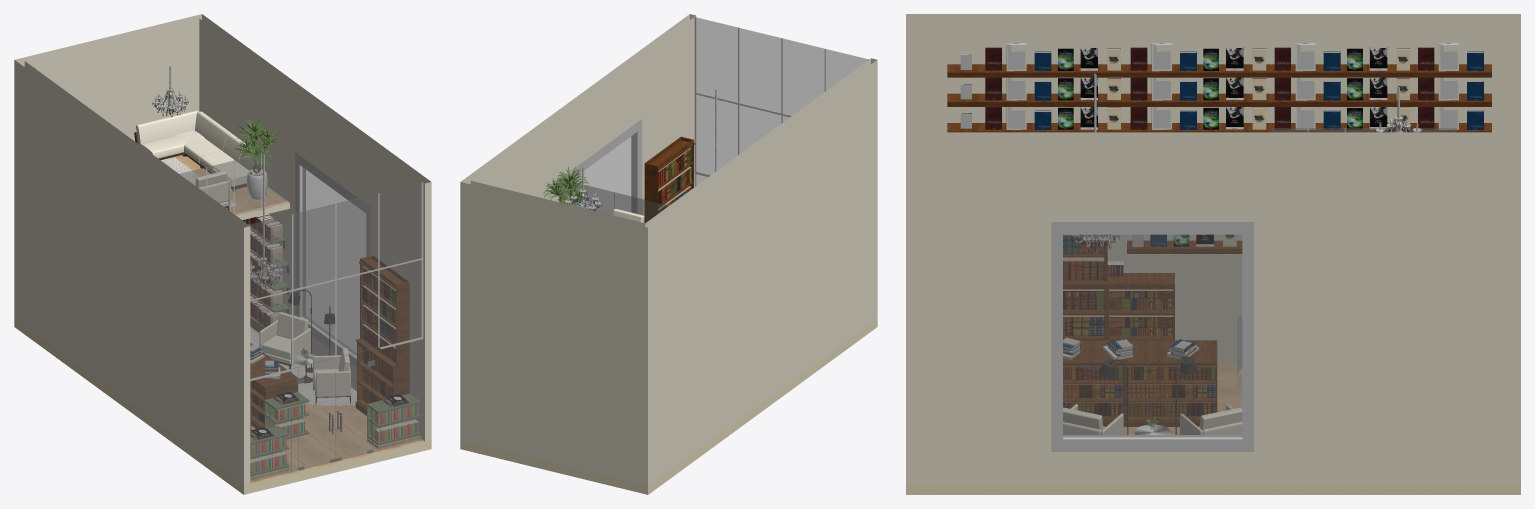
The model's file is livraria.glb.
The picture shows the model from 3 angles, left to right: view 1: azimuth 30°, elevation 25°; view 2: azimuth 150°, elevation 25°; view 3: azimuth 270°, elevation 25°; orthographic projection. The views are drawn at different scales.
Parts seen in each view (by area): view 1: empty_3, empty_8, empty_7261, empty_243, empty_4, empty_2, empty_19, empty_9, empty_16, empty_12, empty_206, empty_541 (+4 smaller); view 2: empty_3, empty_8, empty_9, empty_2, empty_19, empty_16, empty_541, empty_1944; view 3: empty_3, empty_8, empty_5, empty_2, empty_16, empty_9, empty_19, empty_4848, empty_4842, empty_4851, empty_4846, empty_4854 (+7 smaller).
Part boxes in pixels (<box>): empty_3: <box>14,14,431,485</box>; empty_8: <box>180,147,423,481</box>; empty_7261: <box>291,347,380,471</box>; empty_243: <box>135,110,350,397</box>; empty_4: <box>175,155,424,483</box>; empty_2: <box>206,152,423,380</box>; empty_19: <box>250,255,409,430</box>; empty_9: <box>14,318,431,494</box>; empty_16: <box>250,267,395,423</box>; empty_12: <box>250,227,421,476</box>; empty_206: <box>161,157,356,406</box>; empty_541: <box>235,119,279,169</box>; empty_3: <box>460,14,877,485</box>; empty_8: <box>560,17,867,222</box>; empty_9: <box>460,318,877,494</box>; empty_2: <box>566,17,868,214</box>; empty_19: <box>644,136,694,222</box>; empty_16: <box>658,148,691,213</box>; empty_541: <box>543,166,590,206</box>; empty_1944: <box>565,89,717,210</box>; empty_3: <box>906,14,1520,482</box>; empty_8: <box>1063,128,1456,437</box>; empty_5: <box>947,64,1491,362</box>; empty_2: <box>960,43,1458,451</box>; empty_16: <box>1063,235,1215,416</box>; empty_9: <box>906,482,1520,494</box>; empty_19: <box>1063,235,1217,426</box>; empty_4848: <box>985,48,1434,356</box>; empty_4842: <box>1034,52,1483,351</box>; empty_4851: <box>1063,48,1387,354</box>; empty_4846: <box>1058,49,1362,352</box>; empty_4854: <box>1107,49,1409,356</box>.
Size of what is drawn, in the model's own units: 4.3 by 5.85 by 9.1.
170 materials, 111 textured.
